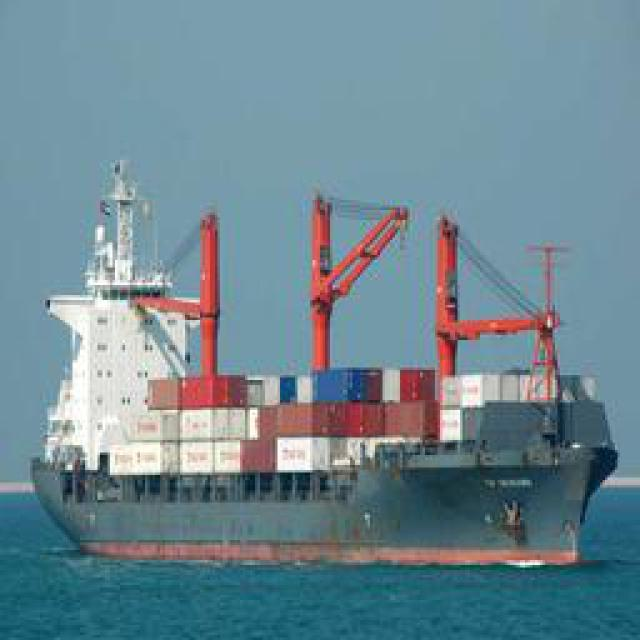Ship: (34, 156, 604, 574)
